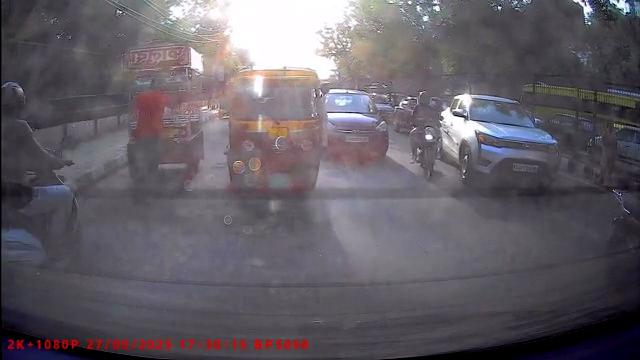motorcycle_with_helmet: (405, 87, 444, 182)
